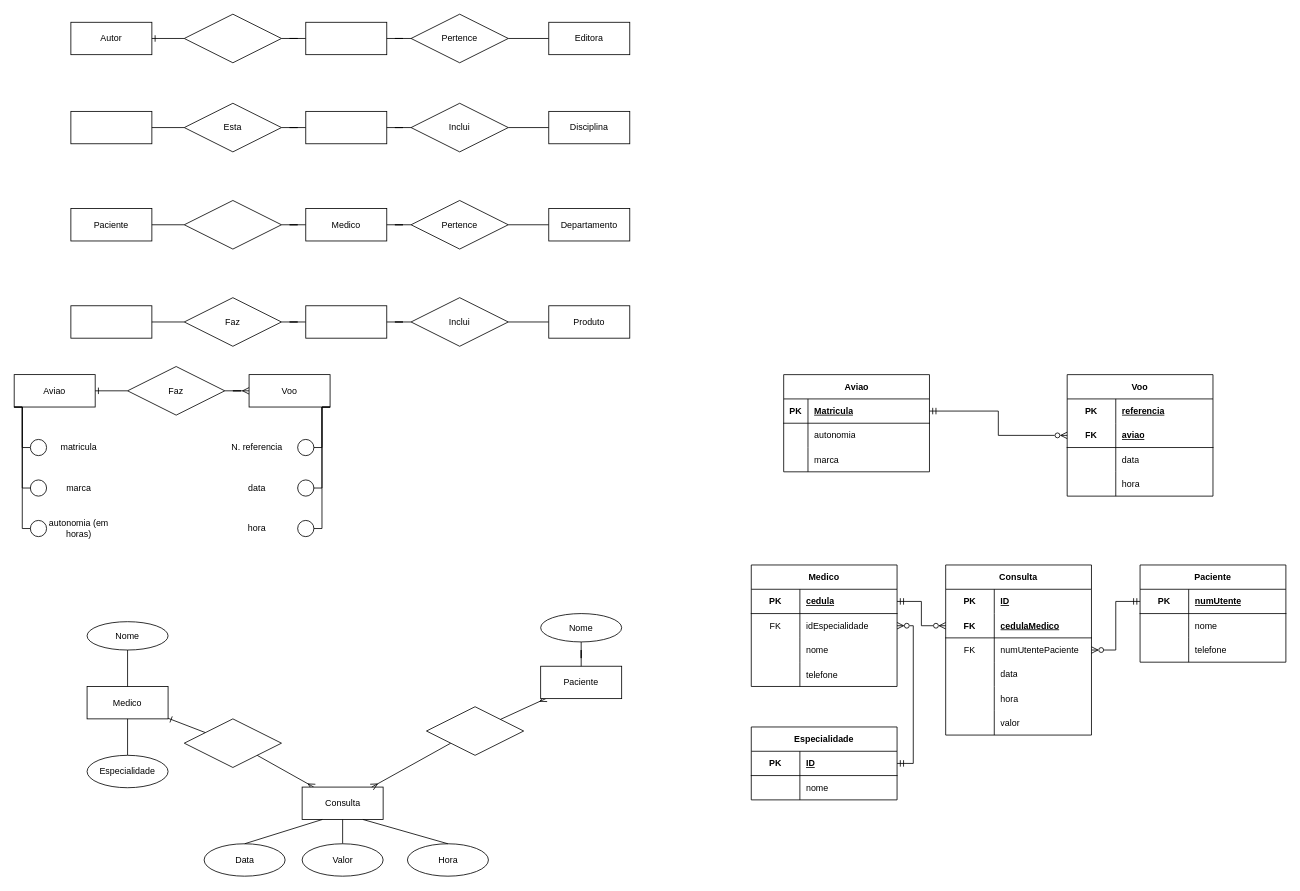
Some shapes in this 1300 by 891 pixel diagram are drawn without their labels. The shapes that lost their labels are listed below. From the top down, each one's centre as x and y in pixels, then its label:
At (x=232, y=38): "Escreveu".
At (x=346, y=38): "Livro".
At (x=111, y=127): "Aluno".
At (x=346, y=127): "turma".
At (x=232, y=224): "Tratado".
At (x=111, y=321): "Cliente".
At (x=346, y=321): "Encomenda".
At (x=232, y=742): "Tem".
At (x=475, y=730): "Para".
